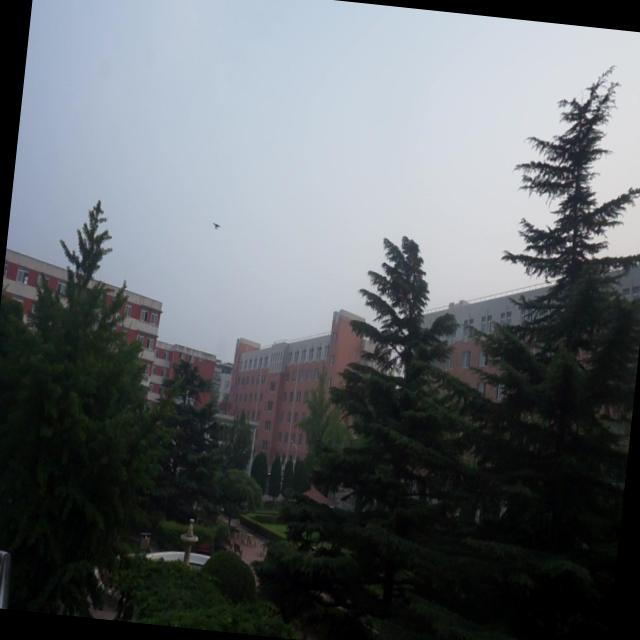drone: (210, 218, 220, 233)
